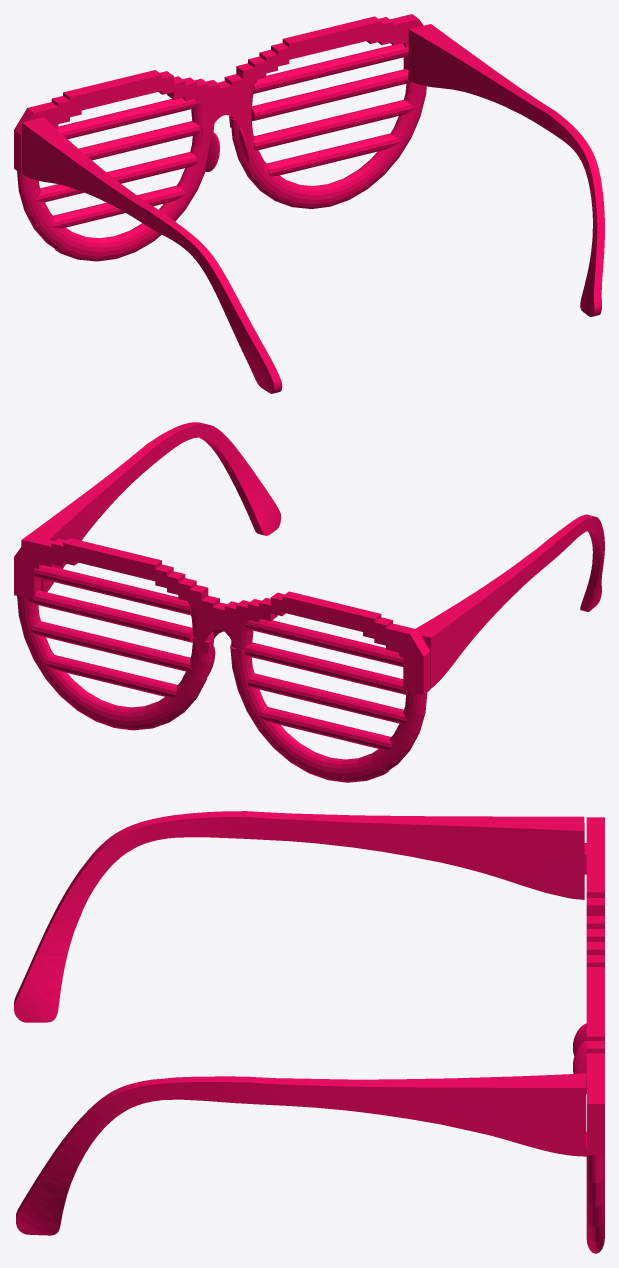
File: party_plaza_glasses.obj
The picture shows the model from 3 angles, top to bottom: view 1: azimuth 30°, elevation 25°; view 2: azimuth 150°, elevation 25°; view 3: azimuth 270°, elevation 25°; orthographic projection. The views are drawn at different scales.
Visible parts, largest first — view 1: Object.1; view 2: Object.1; view 3: Object.1.
Part boxes in pixels (left/top/right/bottom): Object.1: left=14, top=14, right=604, bottom=393; Object.1: left=14, top=422, right=604, bottom=782; Object.1: left=14, top=811, right=604, bottom=1253.
Bounding box in the file's own units: 138 × 56.52 × 128.
